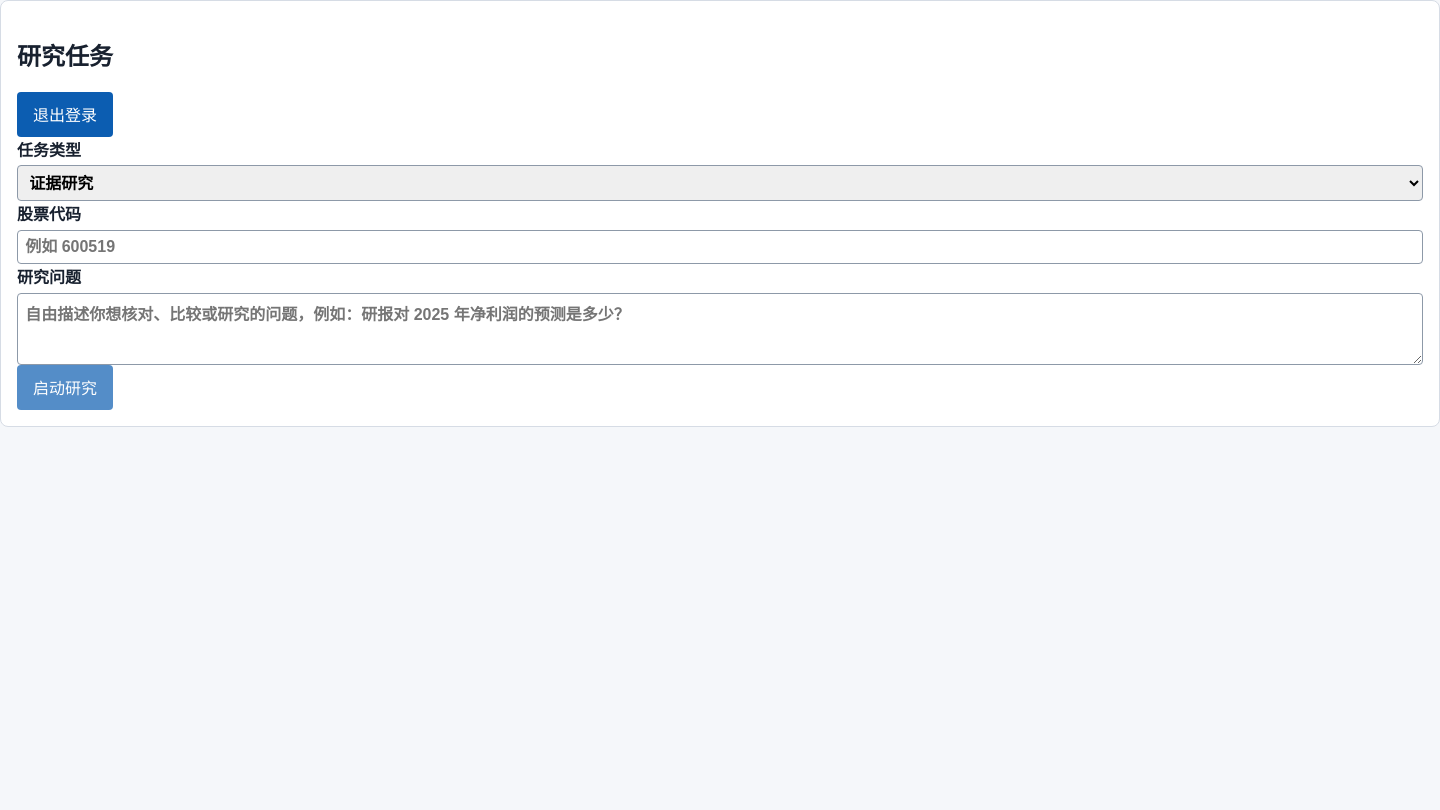
Test: agent run panel › reconnects after a running snapshot and resumes after the last event
In the field labelled "股票代码": (720, 247) [17,230,1423,264], type "600519"
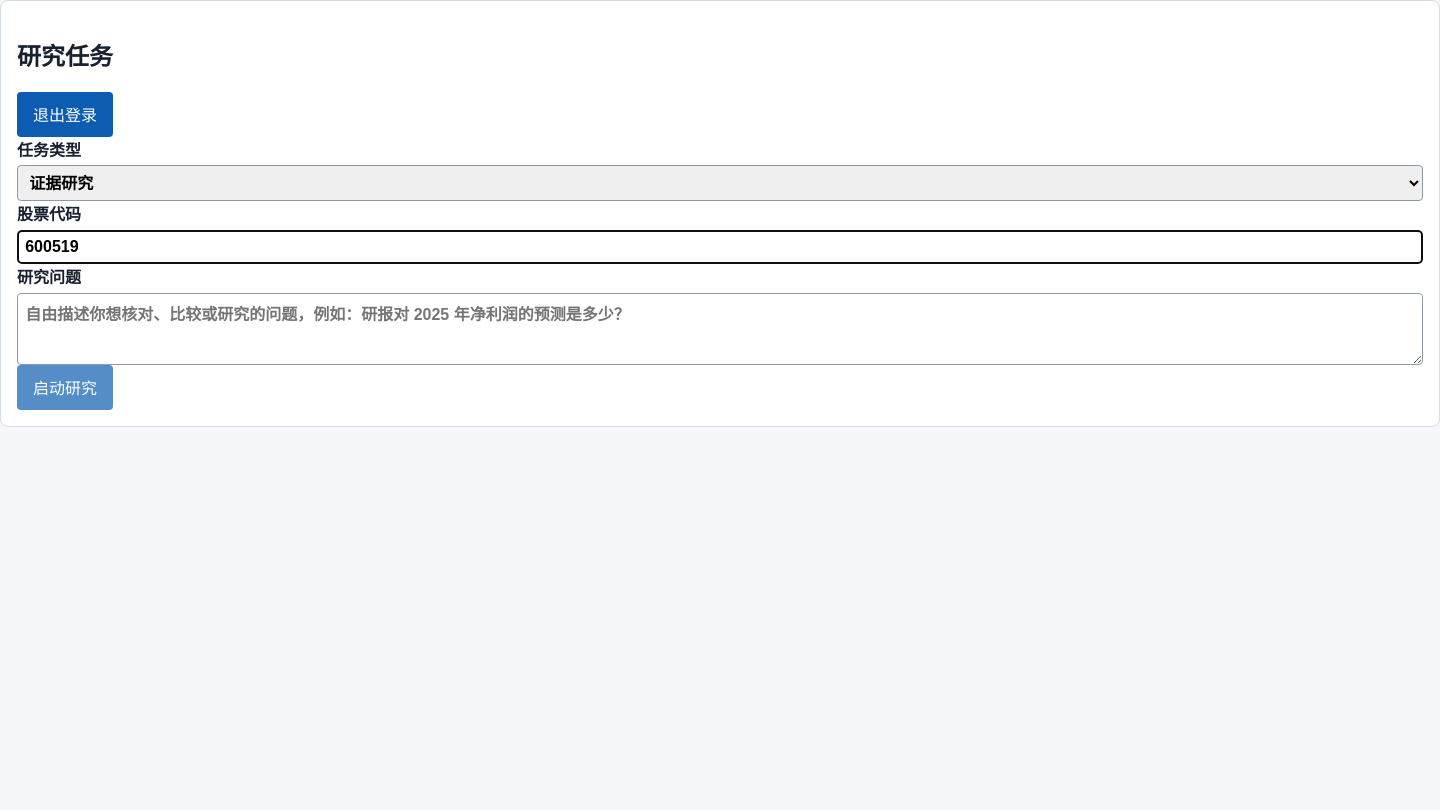
In the text box labelled "研究问题": (720, 329) [17,293,1423,365], type "持续追踪研究任务"
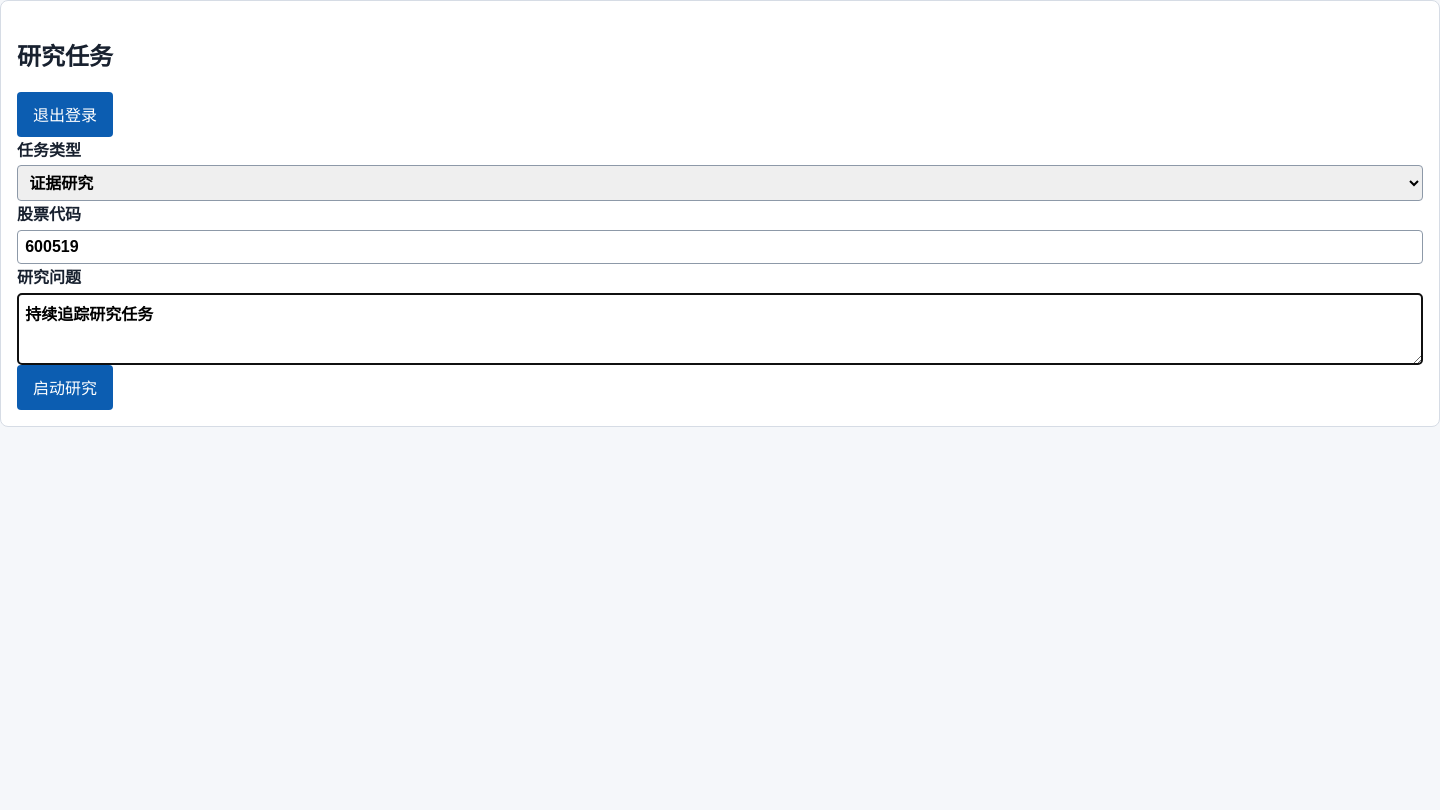
Click the button "启动研究": (65, 387) [17,365,113,410]
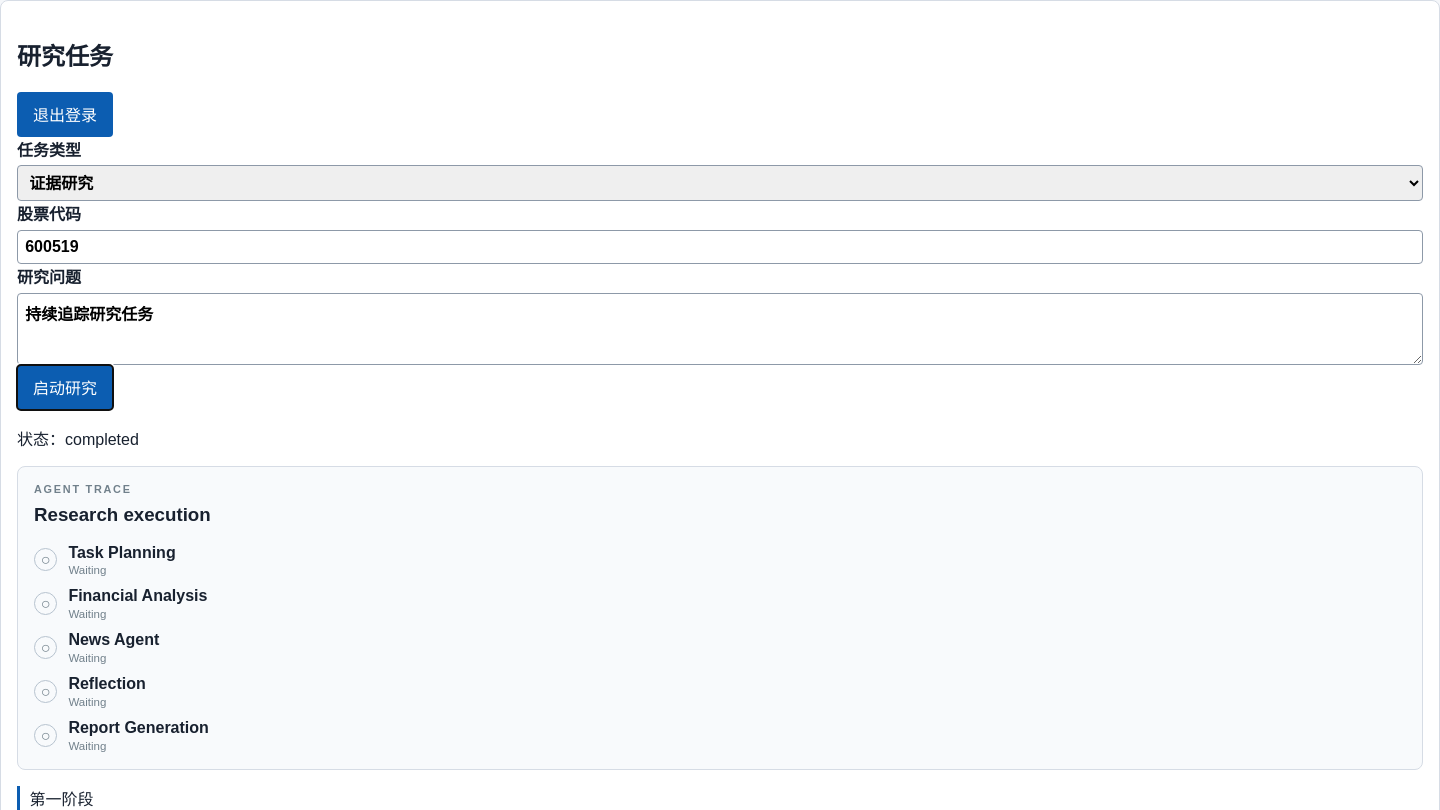
expect the text "状态：completed" is shown: met, box [17,430,139,448]
expect the text "第一阶段" is shown once: met, box [17,786,1423,809]
